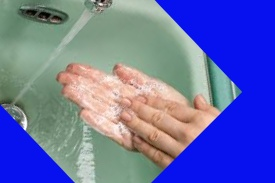washing hand: (0, 0, 222, 182)
